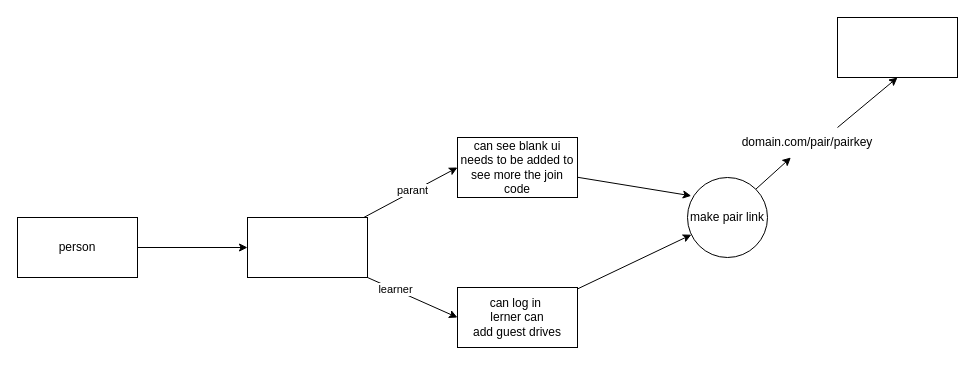
The diagram is 975 pixels wide and 365 high, and some of its shapes have lost their labels. The box of each missing label's shape, as (x1, y1, x2, y2) in pixels:
makes account: (246, 216, 368, 278)
redirect to make a account or sign in then ask to pair: (836, 16, 958, 78)
